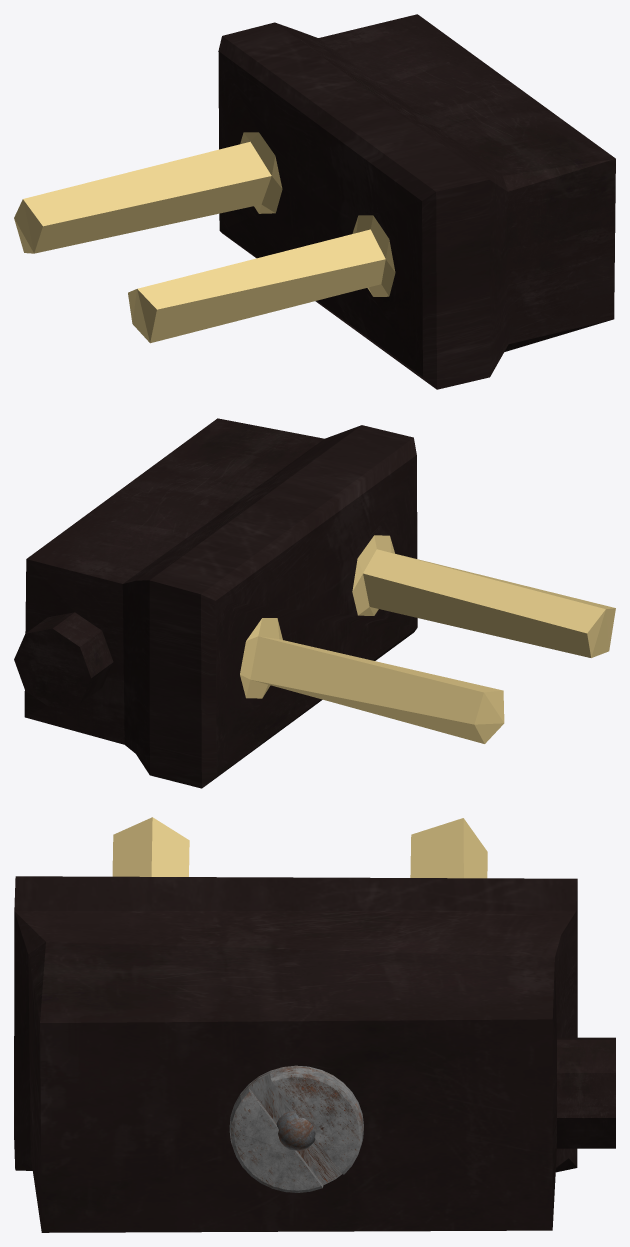
Rendered from PlugBoardPlug4.fbx.
3 renders of one model, top to bottom at view 1: azimuth 30°, elevation 25°; view 2: azimuth 150°, elevation 25°; view 3: azimuth 270°, elevation 25°, orthographic. The views are drawn at different scales.
Parts seen in each view (by area): view 1: PlugBoardPlug; view 2: PlugBoardPlug; view 3: PlugBoardPlug.
Part boxes in pixels (x1=…): PlugBoardPlug: x1=14, y1=14, x2=615, y2=389; PlugBoardPlug: x1=14, y1=418, x2=615, y2=788; PlugBoardPlug: x1=14, y1=817, x2=615, y2=1232.
Bounding box in the file's own units: 300 × 125 × 263.
